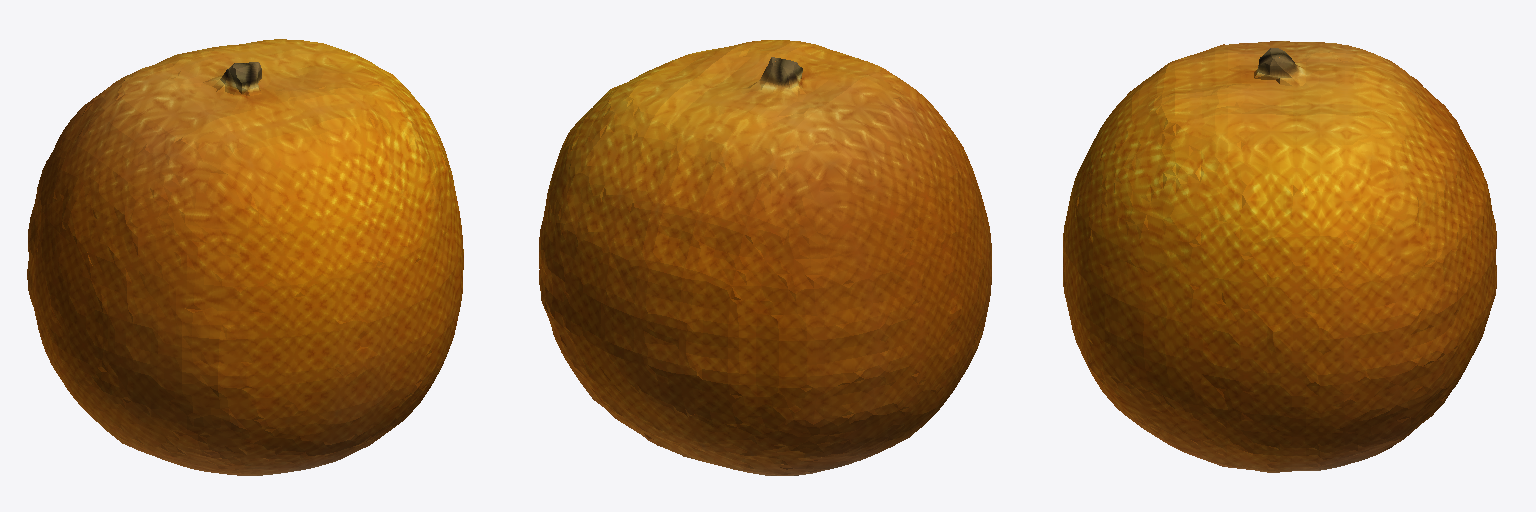
3 renders of one model, left to right at view 1: azimuth 30°, elevation 25°; view 2: azimuth 150°, elevation 25°; view 3: azimuth 270°, elevation 25°, orthographic.
Visible parts, largest first — view 1: orange; view 2: orange; view 3: orange.
Boxes of the visible parts, x1,y1,x2,y2 form: orange: [27, 39, 463, 475]; orange: [539, 40, 991, 475]; orange: [1063, 41, 1496, 472].
Bounding box in the file's own units: 0.0786 × 0.0756 × 0.0756.
1 materials, 1 textured.